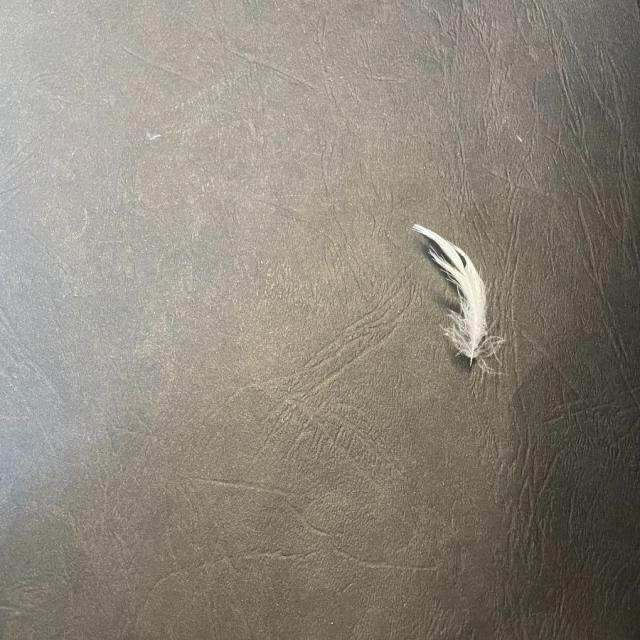feather: (410, 221, 508, 379)
